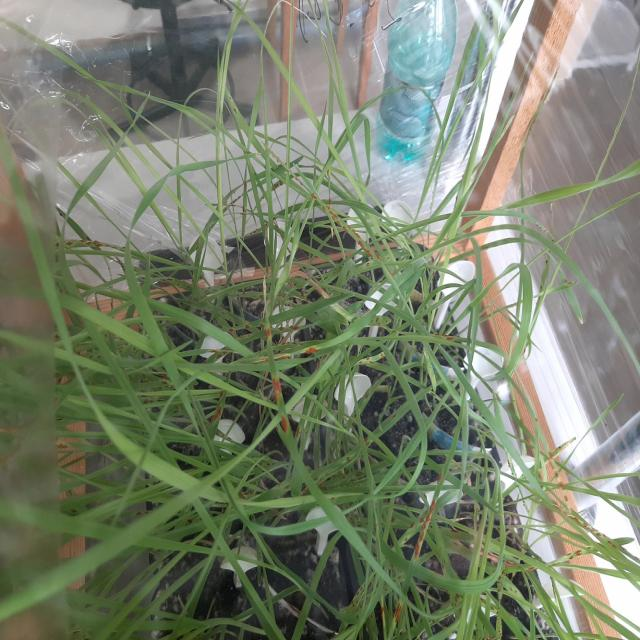wheat-stemrust: (422, 498, 436, 529), (357, 241, 373, 257), (273, 378, 281, 402), (564, 512, 581, 523), (211, 406, 221, 422), (394, 602, 402, 622), (282, 415, 288, 433), (414, 542, 420, 559), (563, 277, 574, 286), (304, 348, 319, 354), (553, 503, 564, 511), (557, 481, 565, 490), (266, 328, 271, 341), (352, 230, 360, 238), (375, 253, 383, 261), (233, 196, 241, 204), (607, 541, 616, 548), (330, 211, 338, 218), (419, 530, 424, 541), (455, 593, 460, 603), (619, 544, 626, 551), (300, 291, 308, 297), (548, 562, 560, 566), (527, 566, 539, 570), (290, 325, 299, 330), (588, 527, 597, 532), (273, 183, 279, 190), (420, 517, 426, 524), (438, 473, 442, 483), (297, 426, 300, 438), (238, 491, 244, 497), (216, 354, 223, 359), (311, 193, 318, 198), (323, 354, 328, 361), (355, 472, 362, 477), (450, 529, 458, 533), (501, 568, 505, 576), (285, 484, 291, 489), (410, 522, 415, 528), (583, 523, 589, 528), (365, 392, 370, 398), (278, 327, 285, 331), (209, 349, 218, 352), (342, 227, 347, 232), (260, 324, 266, 328), (220, 391, 224, 397), (555, 472, 559, 478), (317, 364, 320, 371), (545, 258, 548, 265), (330, 449, 333, 456), (202, 360, 207, 364), (329, 196, 331, 206), (337, 221, 342, 225), (509, 613, 514, 617), (480, 599, 485, 603), (564, 496, 568, 501), (392, 414, 397, 418), (364, 437, 368, 442), (245, 180, 247, 189), (234, 108, 237, 114), (347, 456, 350, 462), (326, 206, 330, 210), (243, 204, 245, 212), (250, 490, 254, 494), (497, 588, 501, 592), (490, 606, 494, 610), (366, 441, 370, 445), (356, 591, 360, 595), (229, 329, 234, 332), (244, 492, 249, 495), (358, 361, 363, 364), (240, 213, 247, 215), (245, 325, 249, 328), (276, 426, 279, 430), (327, 169, 329, 175), (280, 182, 283, 186), (259, 294, 263, 297), (569, 557, 573, 560), (567, 553, 571, 556), (575, 551, 581, 553), (596, 533, 600, 536), (370, 361, 374, 364), (241, 292, 246, 294), (576, 553, 581, 555), (357, 615, 359, 620), (323, 207, 326, 210), (278, 483, 281, 486), (315, 478, 319, 480), (254, 481, 256, 485), (442, 564, 444, 568), (443, 559, 445, 563), (603, 535, 607, 537), (587, 547, 591, 549), (366, 358, 370, 360), (222, 347, 225, 349), (253, 231, 256, 233), (255, 229, 258, 231), (496, 581, 499, 583), (381, 353, 383, 356), (352, 601, 354, 604), (250, 233, 252, 235), (229, 97, 231, 99), (382, 356, 384, 358)
